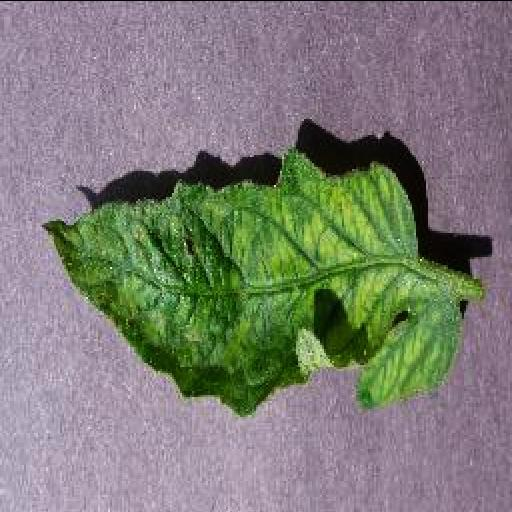disease_tomato: (42, 146, 460, 418)
